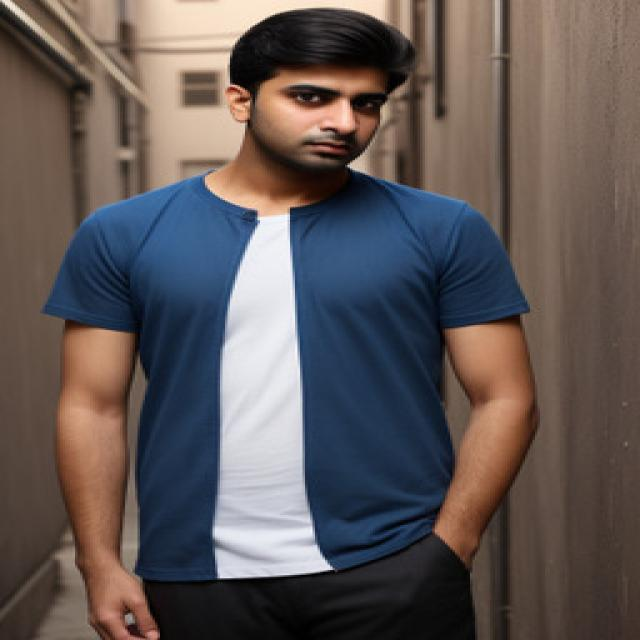Ai human 2: (26, 3, 554, 640)
